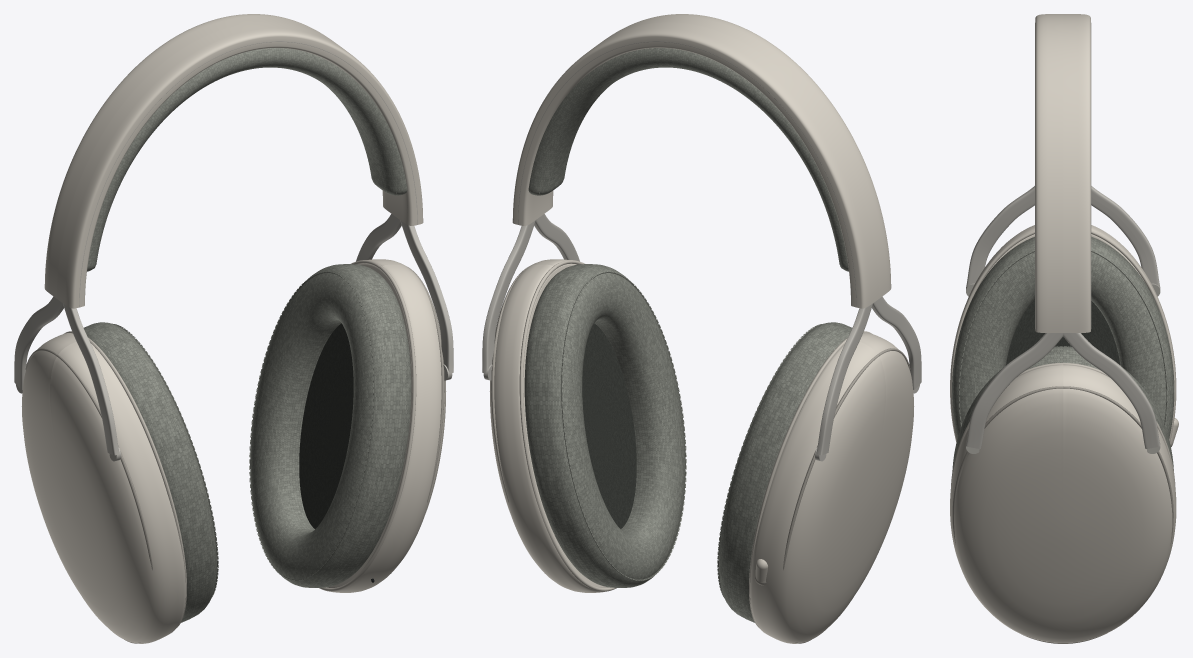
File: sona-arc-original.glb
3 renders of one model, left to right at view 1: azimuth 30°, elevation 25°; view 2: azimuth 150°, elevation 25°; view 3: azimuth 270°, elevation 25°, orthographic. The views are drawn at different scales.
Visible parts, largest first — view 1: Woven acoustic cushion (×2), Left cup, Sona Arc original assembly, Right cup, Rounded padded headband underside, Continuous sewn construction stitches; view 2: Woven acoustic cushion (×2), Left cup, Sona Arc original assembly, Right cup, Rounded padded headband underside, Continuous sewn construction stitches; view 3: Right cup, Sona Arc original assembly, Woven acoustic cushion (×2), Left cup, Continuous sewn construction stitches.
Part boxes in pixels (box(x1,y1,x2,y2)): Woven acoustic cushion (×2): box(84, 264, 411, 622); Left cup: box(21, 325, 217, 643); Sona Arc original assembly: box(14, 14, 453, 461); Right cup: box(250, 259, 446, 592); Rounded padded headband underside: box(87, 48, 407, 271); Continuous sewn construction stitches: box(249, 271, 373, 580); Woven acoustic cushion (×2): box(524, 264, 851, 622); Left cup: box(718, 325, 914, 643); Sona Arc original assembly: box(482, 14, 921, 461); Right cup: box(489, 259, 685, 592); Rounded padded headband underside: box(528, 48, 848, 271); Continuous sewn construction stitches: box(562, 271, 686, 580); Right cup: box(950, 362, 1176, 643); Sona Arc original assembly: box(966, 14, 1160, 453); Woven acoustic cushion (×2): box(952, 236, 1174, 470); Left cup: box(950, 225, 1178, 446); Continuous sewn construction stitches: box(958, 250, 1167, 426).
Size of the model in its own units: 2.63 by 4 by 1.47.
Materials: 10 (2 with a texture image).
